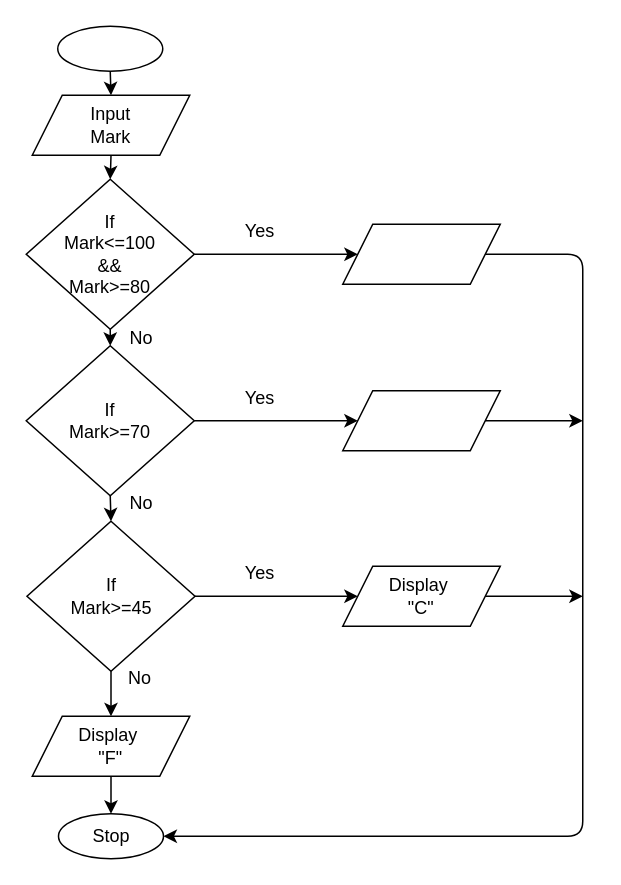
Image size: 621x885. Some labels were removed from this diagram. Each missing label, with the centre of its shape:
Display "A": point (420, 253)
Display "B": point (420, 420)
Start: point (109, 48)
